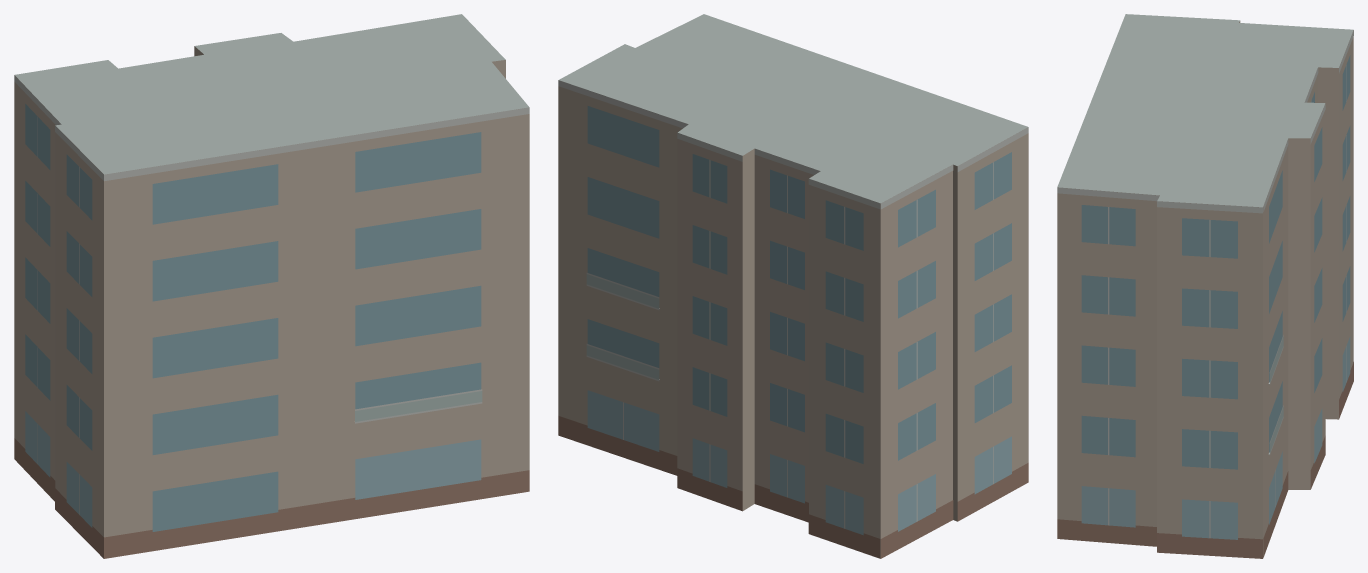
File: survey-upis-32688151.glb
The picture shows the model from 3 angles, left to right: view 1: azimuth 30°, elevation 25°; view 2: azimuth 150°, elevation 25°; view 3: azimuth 270°, elevation 25°; orthographic projection. The views are drawn at different scales.
Parts seen in each view (by area): view 1: survey-upis-32688151.tmp; view 2: survey-upis-32688151.tmp; view 3: survey-upis-32688151.tmp.
Part boxes in pixels (bbox=[...]): survey-upis-32688151.tmp: bbox=[14, 14, 529, 558]; survey-upis-32688151.tmp: bbox=[558, 14, 1028, 558]; survey-upis-32688151.tmp: bbox=[1057, 14, 1353, 558].
Bounding box in the file's own units: 16.76 × 14.2 × 10.87.
